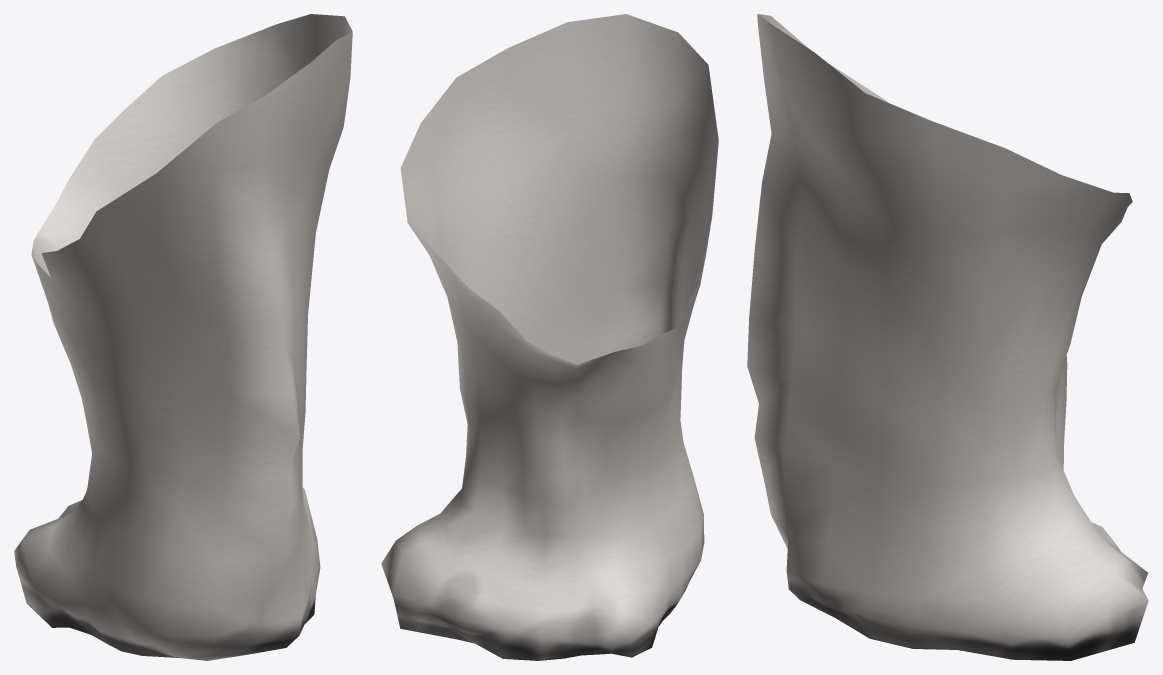
Rendered from rB_rightleg.obj.
The picture shows the model from 3 angles, left to right: view 1: azimuth 30°, elevation 25°; view 2: azimuth 150°, elevation 25°; view 3: azimuth 270°, elevation 25°; orthographic projection. The views are drawn at different scales.
Visible parts, largest first — view 1: Polar_Bear.003; view 2: Polar_Bear.003; view 3: Polar_Bear.003.
Boxes of the visible parts, <box> form: Polar_Bear.003: <box>14,14,352,660</box>; Polar_Bear.003: <box>381,14,718,660</box>; Polar_Bear.003: <box>747,14,1148,660</box>.
Bounding box in the file's own units: 0.4592 × 0.891 × 0.5394.
Materials: 1 (1 with a texture image).
